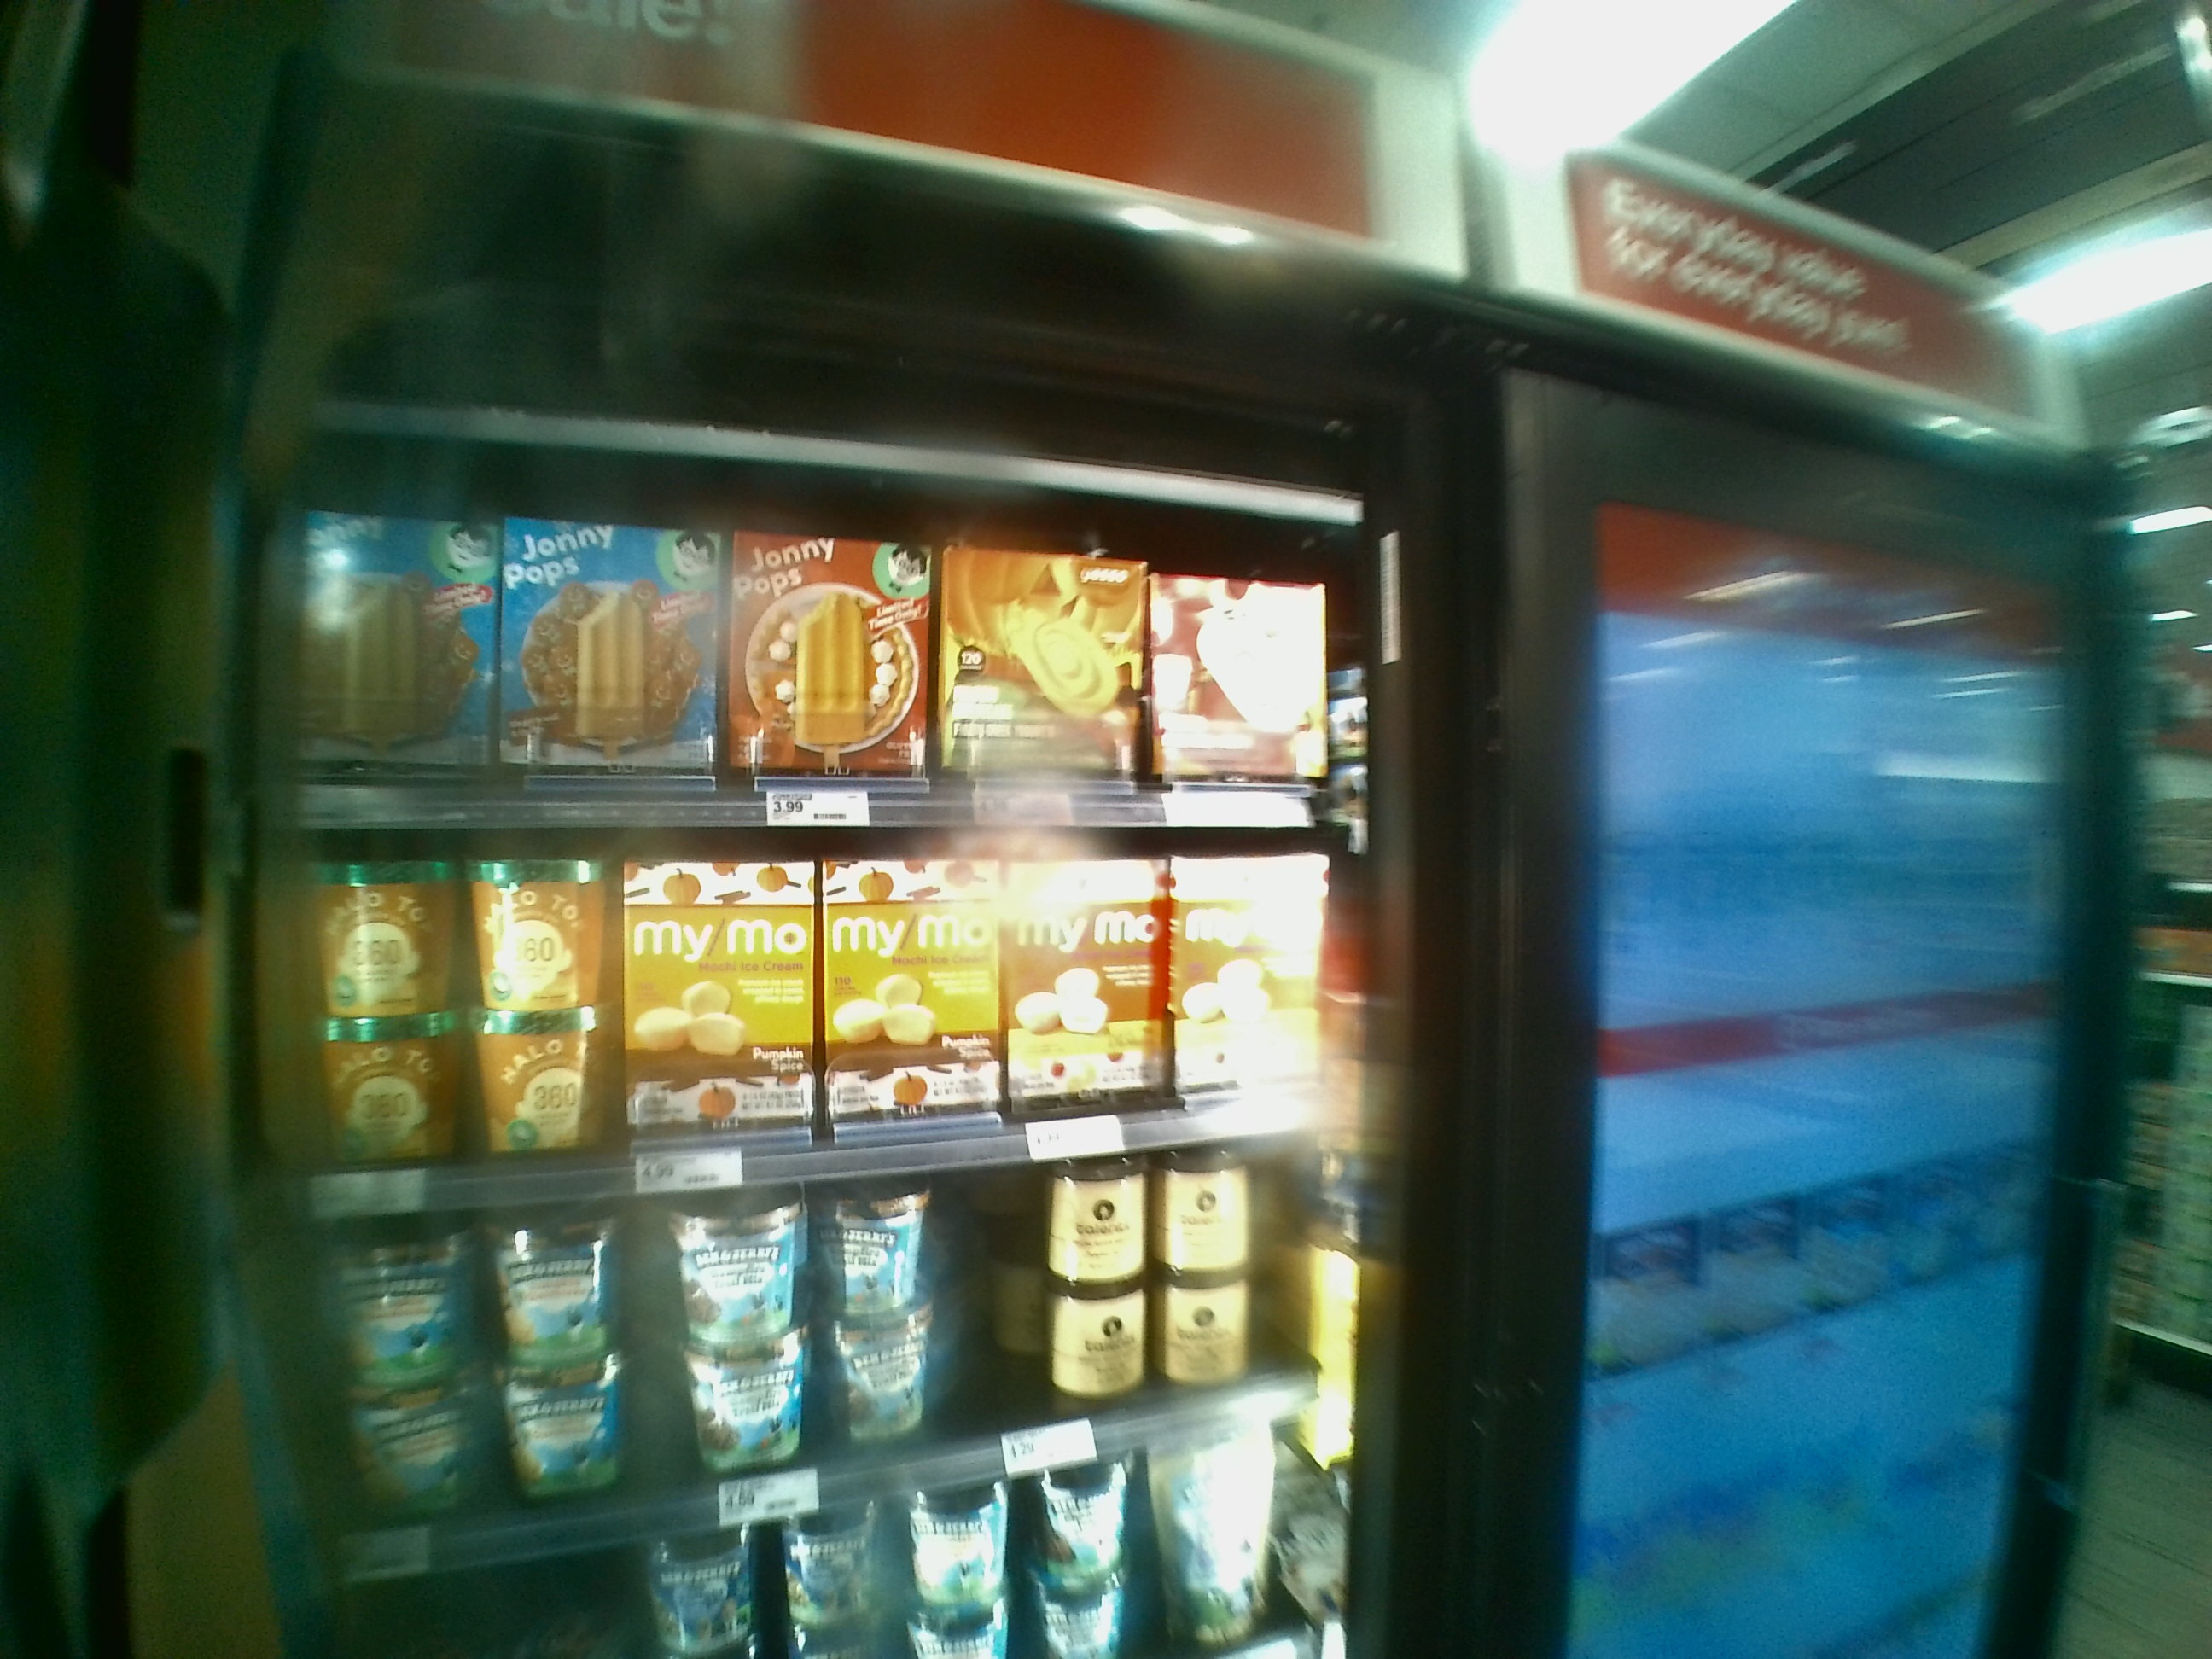shelf: (228, 821, 1378, 1208), (233, 448, 1390, 829), (256, 1195, 1369, 1556)
